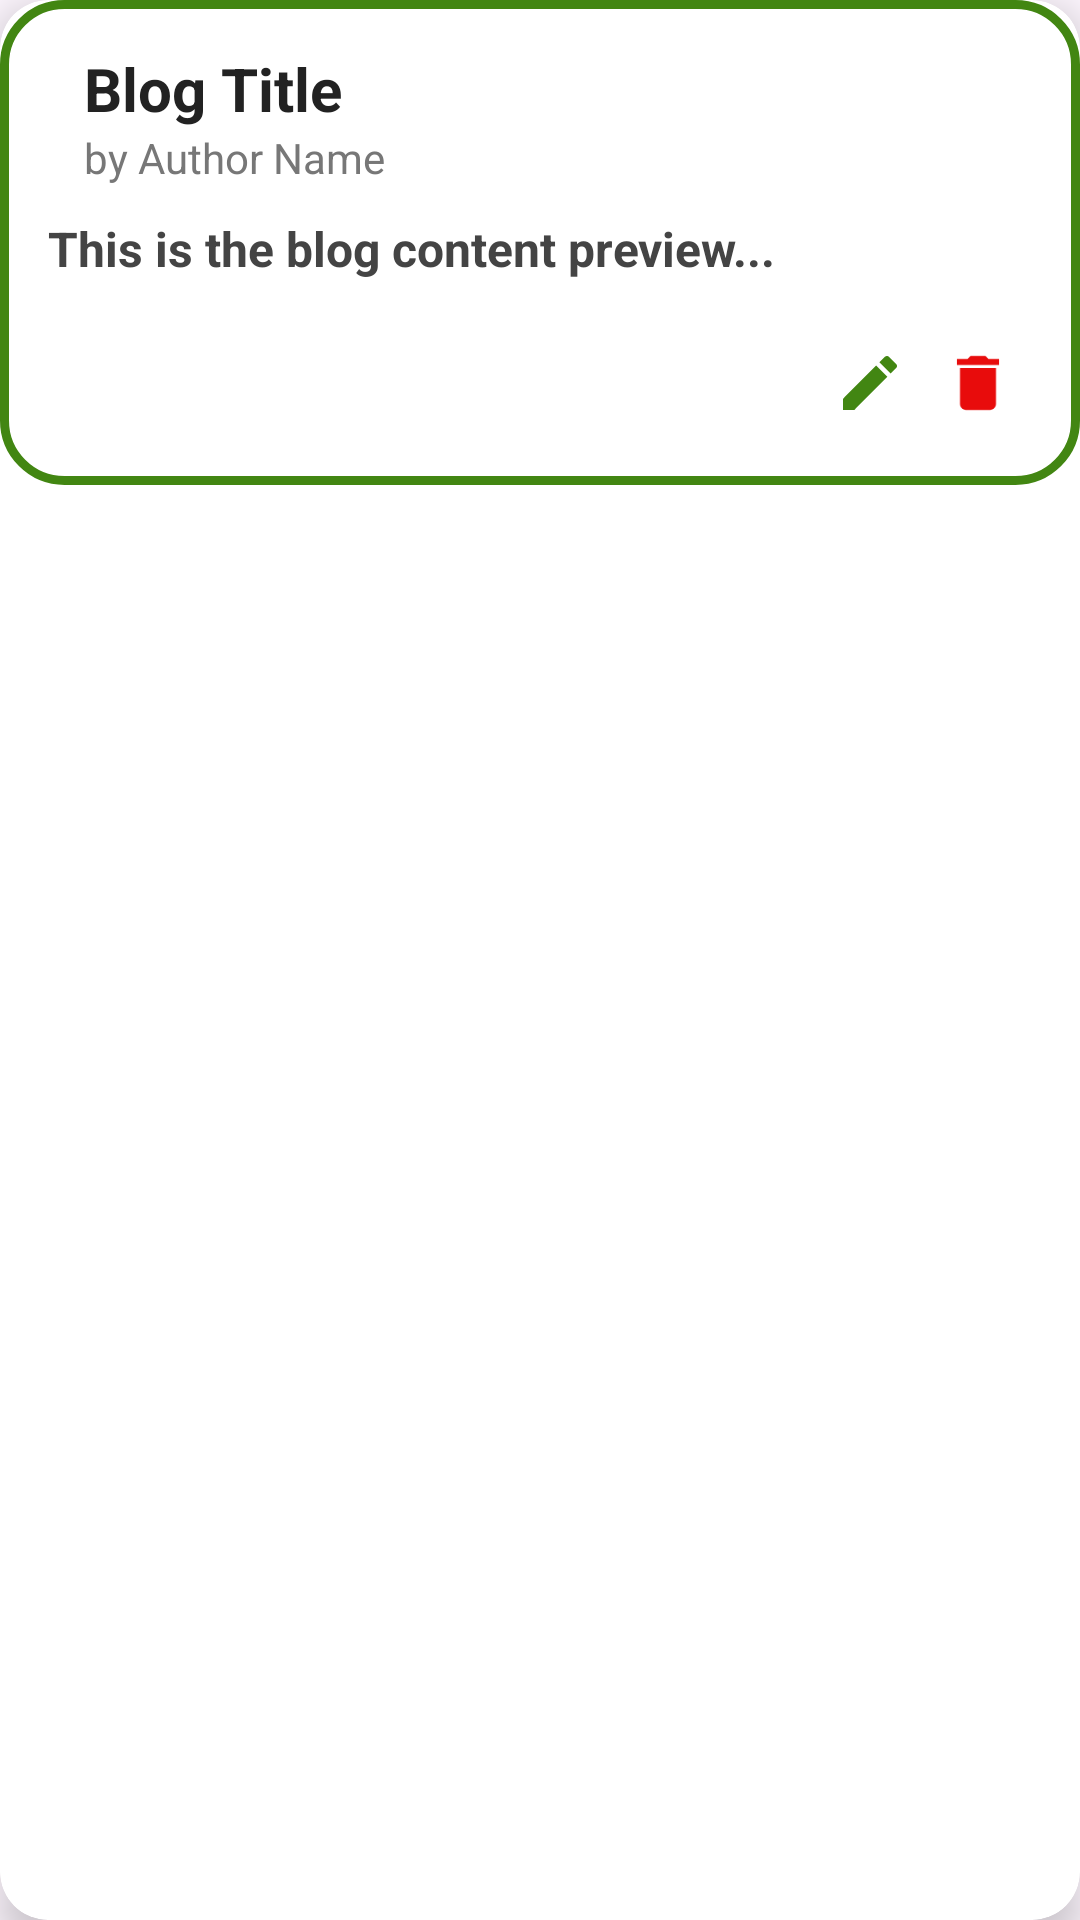

Named icons in this screenshot (1080 x 1920) and their bounding boxes, (x1, y1, x2, y2):
Delete Blog: (957, 355, 999, 411)
Edit Blog: (843, 356, 897, 410)
